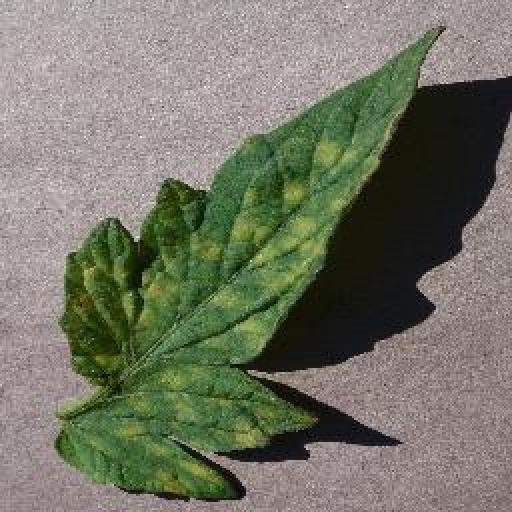disease_tomato: (54, 30, 446, 500)
